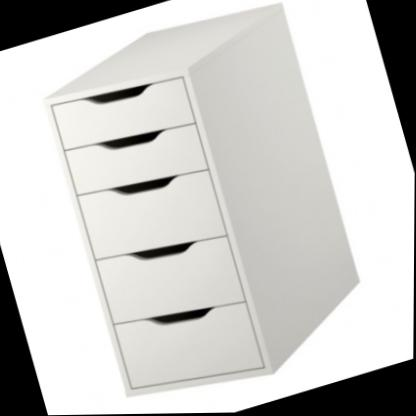Cabinet: (27, 0, 385, 416)
